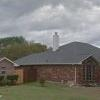Chimney: (44, 27, 65, 51)
